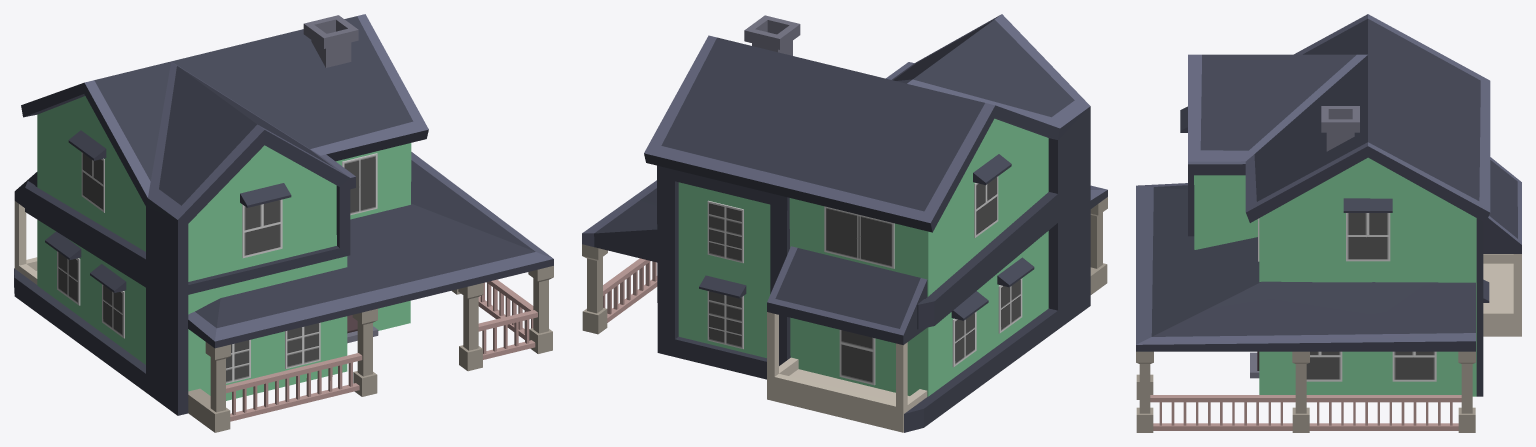
The model's file is house03_color02.fbx.
The picture shows the model from 3 angles, left to right: view 1: azimuth 30°, elevation 25°; view 2: azimuth 150°, elevation 25°; view 3: azimuth 270°, elevation 25°; orthographic projection. The views are drawn at different scales.
Visible parts, largest first — view 1: house03_color02; view 2: house03_color02; view 3: house03_color02.
Boxes of the visible parts, box(x1,y1,x2,y2) form: house03_color02: box(14, 14, 553, 432); house03_color02: box(582, 14, 1107, 432); house03_color02: box(1136, 14, 1521, 432).
Bounding box in the file's own units: 1233 × 916 × 1212.
